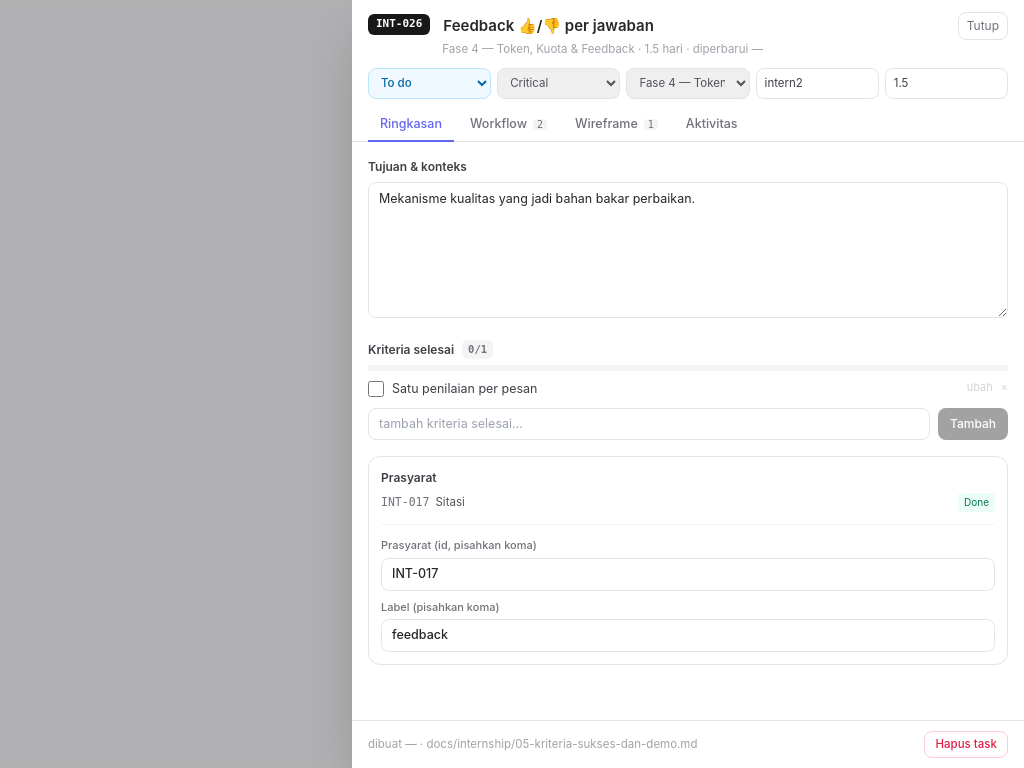
it: TaskDetail — task bisa disunting › mengubah alur kerja: tambah, hapus, urutkan, lalu simpan sekali
Click the tab "Workflow2".
click(509, 125)  # box [458,109,559,142]
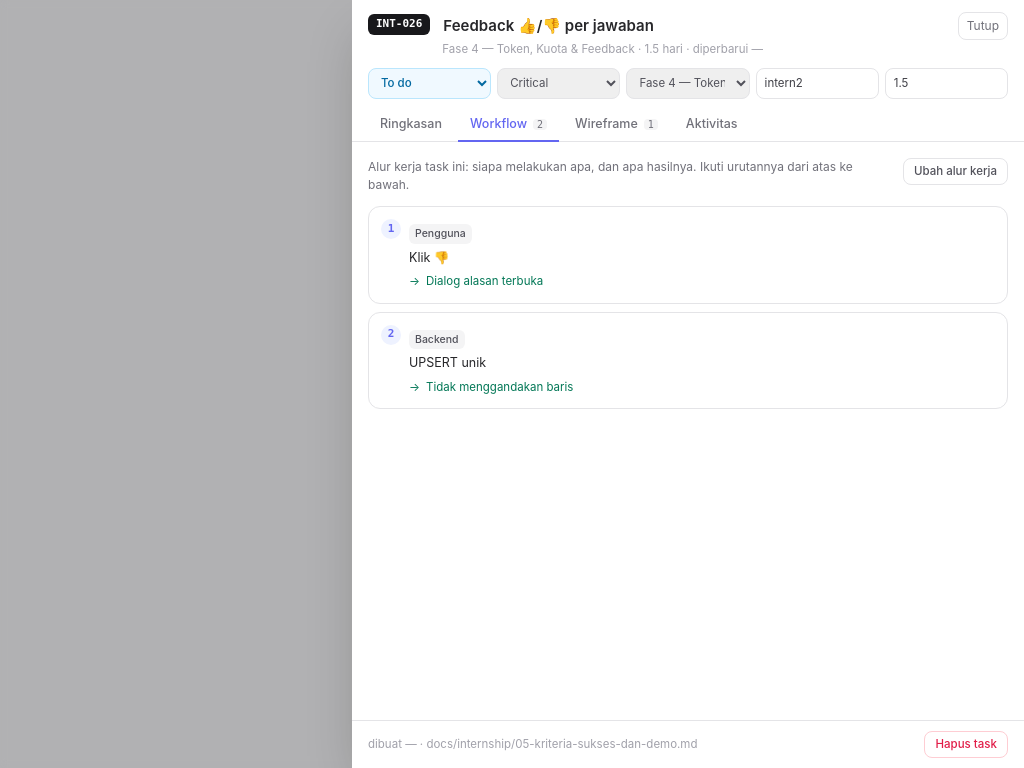
Click the button "Ubah alur kerja".
click(955, 171)  # box [903,158,1008,185]
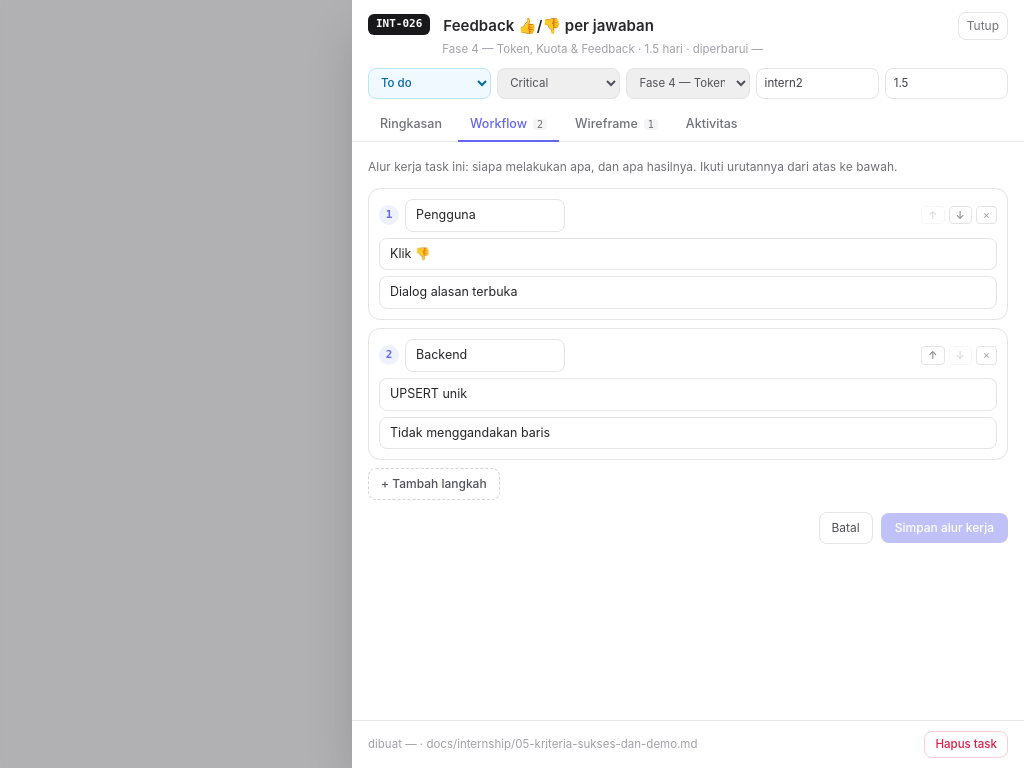
Now the element with test id "workflow-editor" is shown, box [368,188,1008,544]
Now the button "Simpan alur kerja" is disabled, box [881,513,1008,543]
# hapus langkah 1, tambah langkah baru
Click the button named "Hapus langkah 1".
click(986, 215)  # box [976,206,997,224]
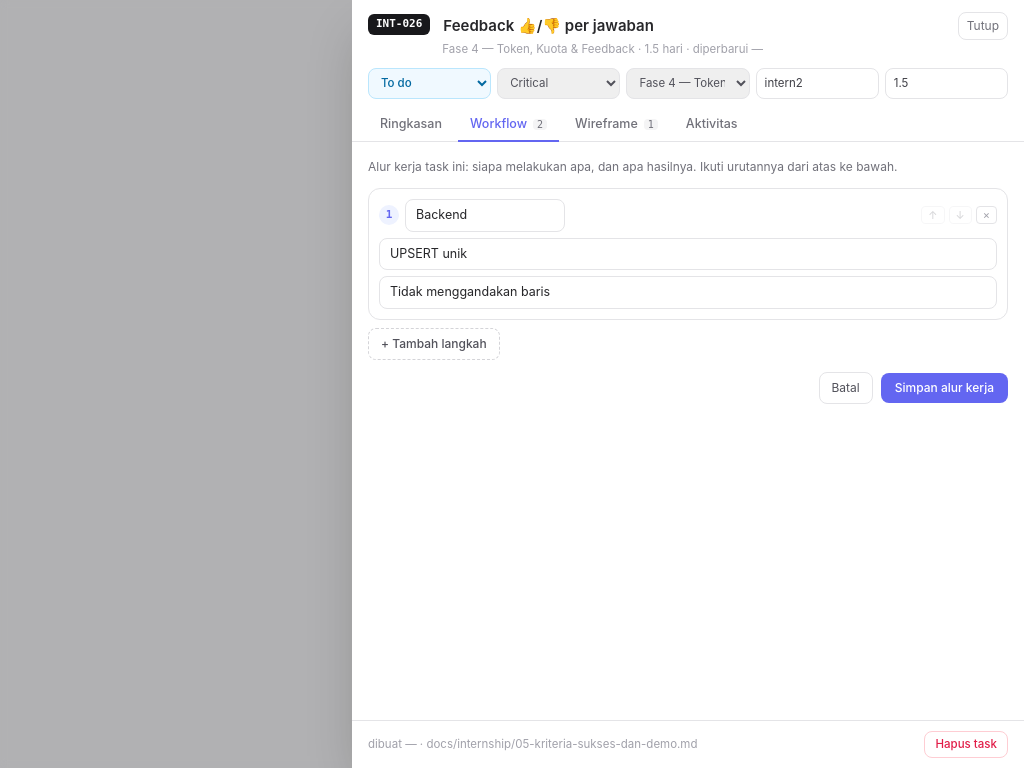
Click the button "+ Tambah langkah".
click(434, 344)  # box [368,328,500,360]
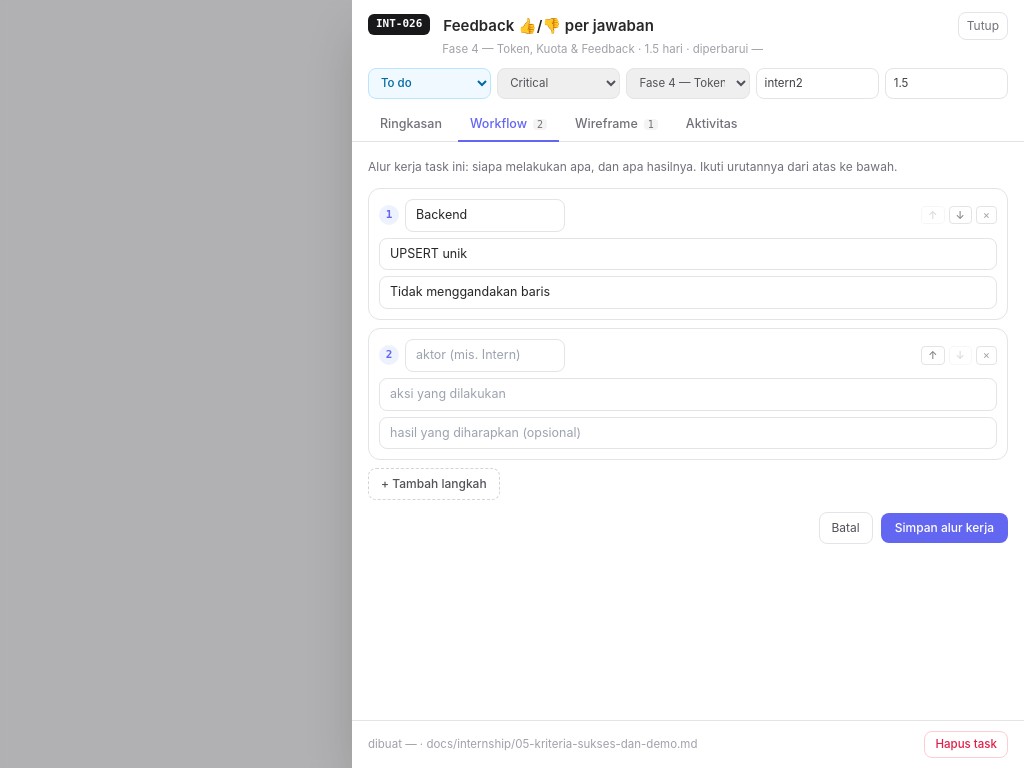
Type "Tulis test kontrak" into the field named "Aksi langkah 2".
click(688, 394); type("Tulis test kontrak")  # box [379,378,997,411]
Type "Intern" into the field named "Aktor langkah 2".
click(485, 355); type("Intern")  # box [405,339,565,372]
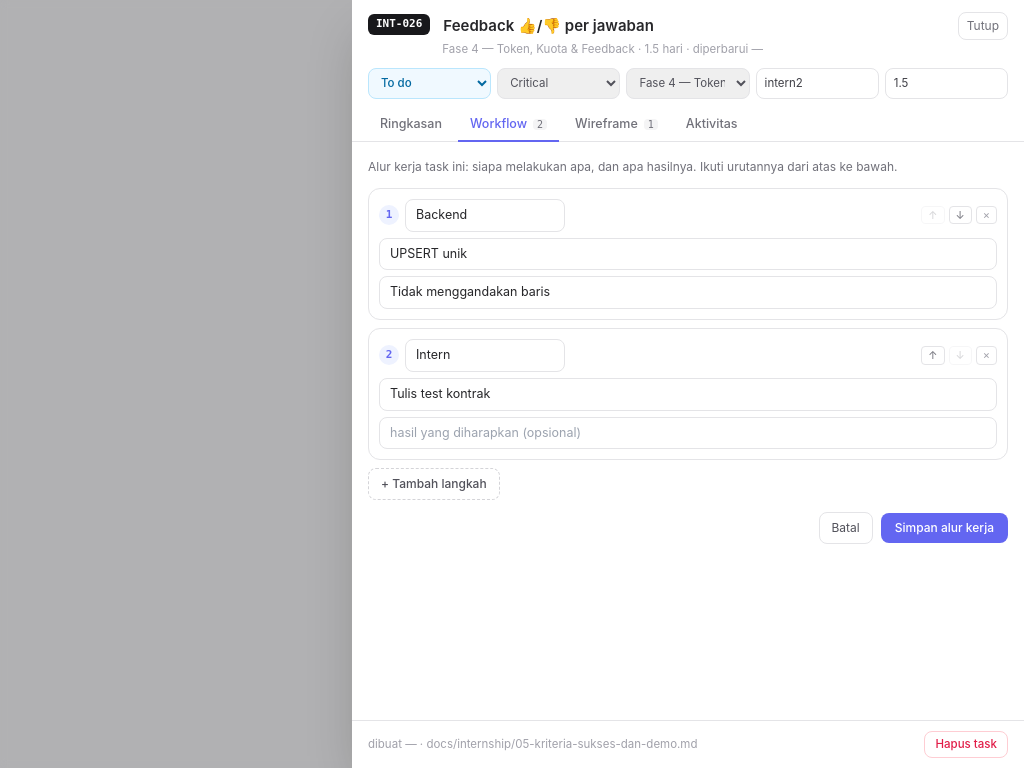
Now the button "Simpan alur kerja" is enabled
Click the button "Simpan alur kerja".
click(944, 528)  # box [881,513,1008,543]
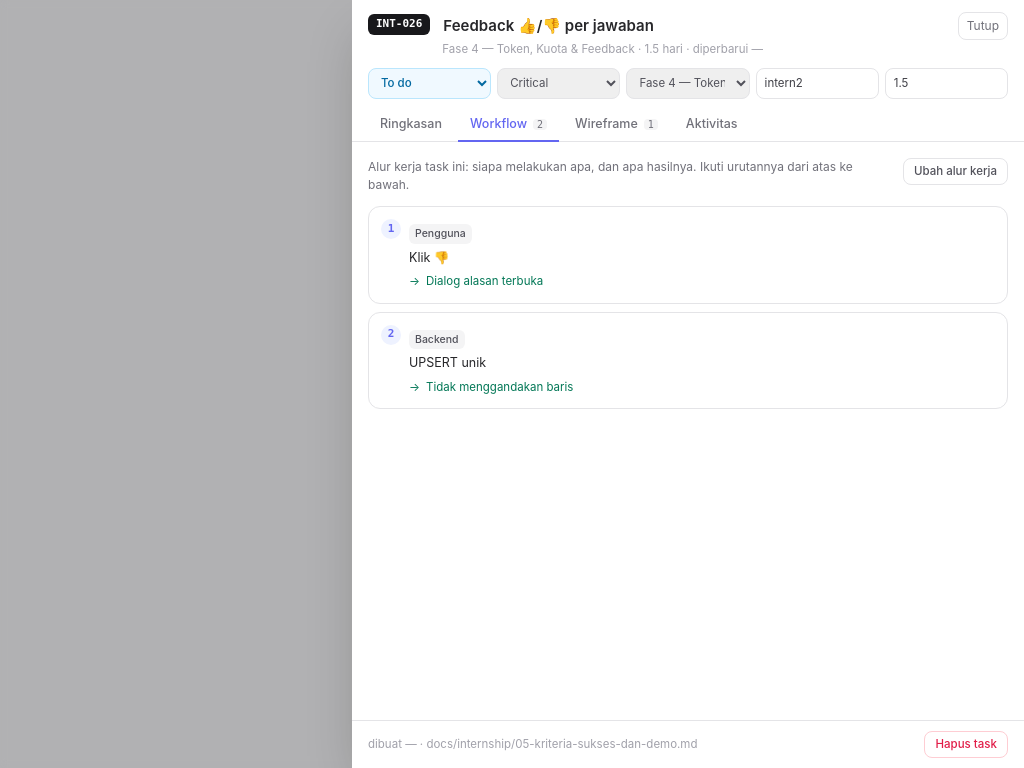
Now the element with test id "workflow-editor" is gone
